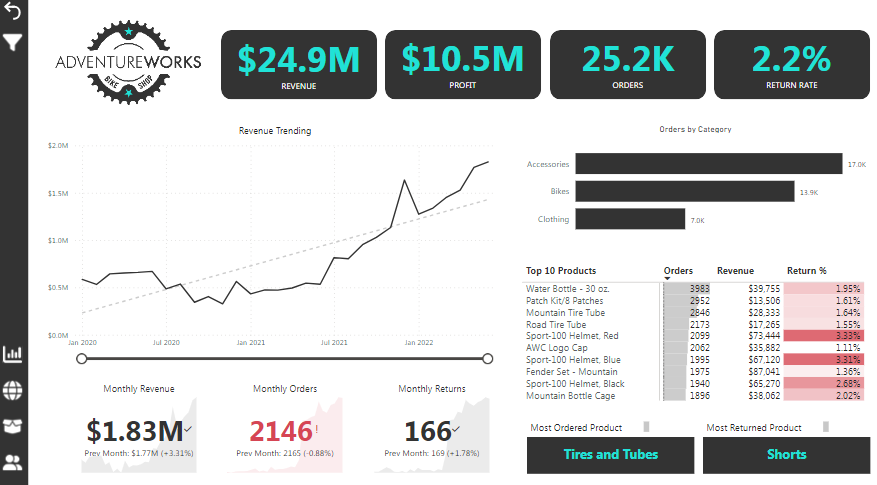

Layout of this report page (visuals, bound fields, positions):
{"tool":"powerbi","page":{"name":"Exec Dashboard","canvas":[1280,720],"ordinal":0},"visuals":[{"type":"card","fields":{"Values":["Measure Table.Total Profit"]},"box":[543.2,23.6,255.7,150],"z":0,"group":"g2"},{"type":"image","title":"AW Logo","box":[55.7,25.7,267.1,144.3],"z":0},{"type":"group","id":"g1","title":"KPI Backgrounds","box":[322.9,52.4,935,100],"z":0,"group":"g3"},{"type":"shape","box":[322.9,52.4,225,100],"z":0,"group":"g1"},{"type":"actionButton","box":[3.7,501.1,36.3,35.8],"z":0,"group":"g4"},{"type":"shape","title":"Left Nav Background","box":[0,0,45,720],"z":1000},{"type":"group","id":"g2","title":"KPI Values","box":[306.5,23.6,965.7,151.4],"z":1000,"group":"g3"},{"type":"card","fields":{"Values":["Measure Table.Total Orders"]},"box":[779.8,23.6,255.7,150],"z":1000,"group":"g2"},{"type":"shape","box":[559.6,52.4,225,100],"z":1000,"group":"g1"},{"type":"actionButton","box":[4,552.8,36.5,36],"z":1000,"group":"g4"},{"type":"group","id":"g3","title":"KPIs","box":[306.5,23.6,965.7,151.4],"z":2000},{"type":"card","fields":{"Values":["Measure Table.Total Revenue"]},"box":[306.5,23.6,255.7,151.4],"z":2000,"group":"g2"},{"type":"shape","box":[796.2,52.4,225,100],"z":2000,"group":"g1"},{"type":"actionButton","box":[4,604.6,36.5,36],"z":2000,"group":"g4"},{"type":"card","fields":{"Values":["Measure Table.Return Rate"]},"box":[1016.5,23.6,255.7,150],"z":3000,"group":"g2"},{"type":"shape","box":[1032.9,52.4,225,100],"z":3000,"group":"g1"},{"type":"lineChart","title":"Revenue Trending","fields":{"Y":["Measure Table.Total Revenue"],"Category":["Calendar Lookup.Year","Calendar Lookup.Start of Quarter","Calendar Lookup.Start of Month"]},"box":[67.1,187.1,665.7,348.6],"z":3000},{"type":"actionButton","box":[4,656.5,36.5,36],"z":3000,"group":"g4"},{"type":"kpi","title":"Monthly Revenue","fields":{"Indicator":["Measure Table.Total Revenue"],"TrendLine":["Calendar Lookup.Date Hierarchy.Start of Month"],"Goal":["Measure Table.Previous Month Revenue"]},"box":[117.1,558.6,175.7,135.7],"z":4000},{"type":"kpi","title":"Monthly Orders","fields":{"TrendLine":["Calendar Lookup.Date Hierarchy.Start of Month"],"Indicator":["Measure Table.Total Orders"],"Goal":["Measure Table.Previous Month Orders"]},"box":[327.1,558.6,175.7,135.7],"z":5000},{"type":"kpi","title":"Monthly Returns","fields":{"TrendLine":["Calendar Lookup.Date Hierarchy.Start of Month"],"Indicator":["Measure Table.Total Returns"],"Goal":["Measure Table.Previous Month Returns"]},"box":[538.6,558.6,175.7,135.7],"z":6000},{"type":"clusteredBarChart","title":"Orders by Category","fields":{"Category":["Product Categories Lookup.CategoryName"],"Y":["Measure Table.Total Orders"]},"box":[752.9,187.1,505.7,174.3],"z":7000},{"type":"pivotTable","fields":{"Rows":["Product Lookup.ProductName"],"Values":["Measure Table.Total Orders","Measure Table.Total Revenue","Measure Table.Return Rate"]},"box":[751.4,384.3,505.7,211.4],"z":8000},{"type":"card","fields":{"Values":["Min(Product Subcategories Lookup.SubcategoryName)"]},"box":[762.9,638.6,241.4,52.9],"z":9000},{"type":"card","fields":{"Values":["Min(Product Subcategories Lookup.SubcategoryName)"]},"box":[1017.1,638.6,241.4,52.9],"z":10000},{"type":"textbox","box":[762.9,610,181.4,28.6],"z":11000},{"type":"textbox","box":[1017.1,610,185.7,28.6],"z":12000},{"type":"actionButton","box":[4.6,5.4,36.2,36.2],"z":13000},{"type":"group","id":"g4","title":"Navigation Buttons","box":[3.7,501.1,36.7,191.4],"z":14000},{"type":"actionButton","box":[4.5,52.5,36,36],"z":15000}]}

Visuals, with their boxes on the page's 1280x720 design canvas (x1, y1, x2, y2). These are canvas units, not pixel positions in the 877x485 screenshot, which may show the page scaled, cropped or inside an application window:
card - Measure Table.Total Profit: left=543, top=24, right=799, bottom=174
"AW Logo" image: left=56, top=26, right=323, bottom=170
"KPI Backgrounds" group: left=323, top=52, right=1258, bottom=152
shape: left=323, top=52, right=548, bottom=152
actionButton: left=4, top=501, right=40, bottom=537
"Left Nav Background" shape: left=0, top=0, right=45, bottom=720
"KPI Values" group: left=306, top=24, right=1272, bottom=175
card - Measure Table.Total Orders: left=780, top=24, right=1036, bottom=174
shape: left=560, top=52, right=785, bottom=152
actionButton: left=4, top=553, right=40, bottom=589
"KPIs" group: left=306, top=24, right=1272, bottom=175
card - Measure Table.Total Revenue: left=306, top=24, right=562, bottom=175
shape: left=796, top=52, right=1021, bottom=152
actionButton: left=4, top=605, right=40, bottom=641
card - Measure Table.Return Rate: left=1016, top=24, right=1272, bottom=174
shape: left=1033, top=52, right=1258, bottom=152
"Revenue Trending" lineChart: left=67, top=187, right=733, bottom=536
actionButton: left=4, top=656, right=40, bottom=692
"Monthly Revenue" kpi: left=117, top=559, right=293, bottom=694
"Monthly Orders" kpi: left=327, top=559, right=503, bottom=694
"Monthly Returns" kpi: left=539, top=559, right=714, bottom=694
"Orders by Category" clusteredBarChart: left=753, top=187, right=1259, bottom=361
pivotTable - Product Lookup.ProductName x Measure Table.Total Orders: left=751, top=384, right=1257, bottom=596
card - Min(Product Subcategories Lookup.SubcategoryName): left=763, top=639, right=1004, bottom=692
card - Min(Product Subcategories Lookup.SubcategoryName): left=1017, top=639, right=1258, bottom=692
textbox: left=763, top=610, right=944, bottom=639
textbox: left=1017, top=610, right=1203, bottom=639
actionButton: left=5, top=5, right=41, bottom=42
"Navigation Buttons" group: left=4, top=501, right=40, bottom=692
actionButton: left=4, top=52, right=40, bottom=88
